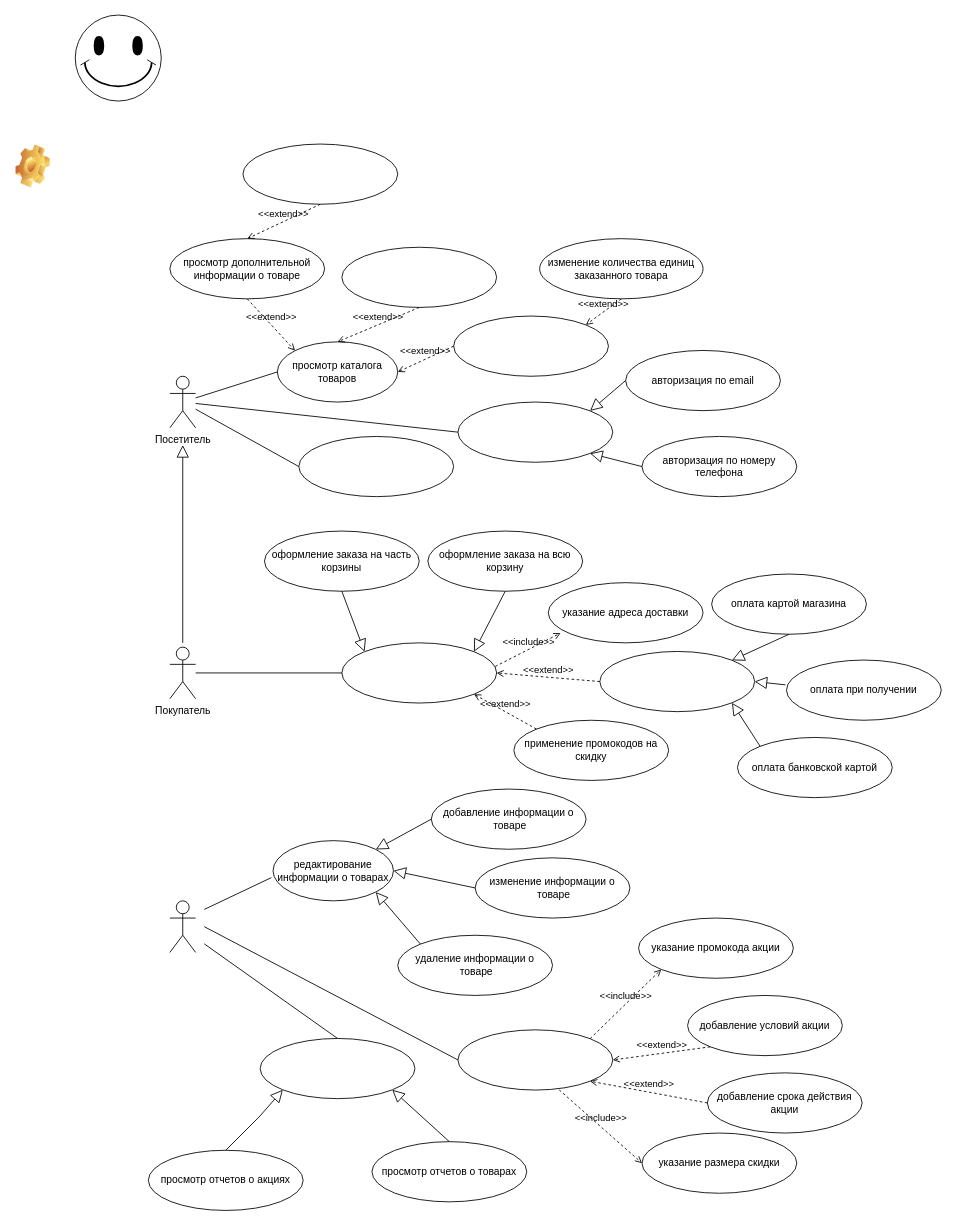
Image size: 956x1226. Some labels were removed from this diagram. The centre of each missing label's shape, as x and y in pixels:
авторизация: point 535,431
добавление товара в корзину: point 530,345
Менеджер: point 182,926
оплата заказа: point 677,681
оформление заказа: point 419,672
просмотр отчетов: point 337,1068
просмотр списка отзывов: point 320,173
регистрация: point 376,466
создание новых акций: point 535,1059
фильтрация товаров: point 419,276
